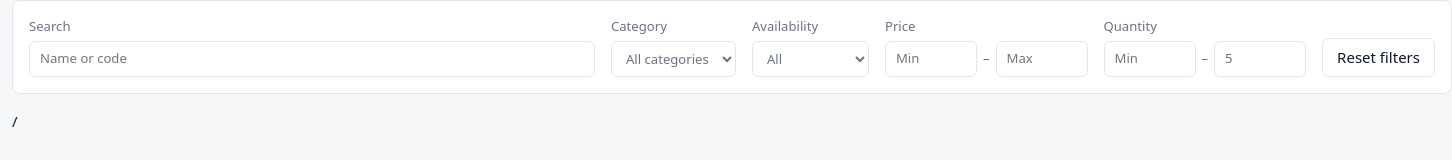
ProductFilters › reset clears the inputs and cancels pending updates
The image size is (1452, 160).
Expected: the number field named "Maximum quantity" holds "5", x1=1214 y1=41 x2=1306 y2=77
Type "tea" into the search field labelled "Search" at (312, 59), box x1=29 y1=41 x2=595 y2=77
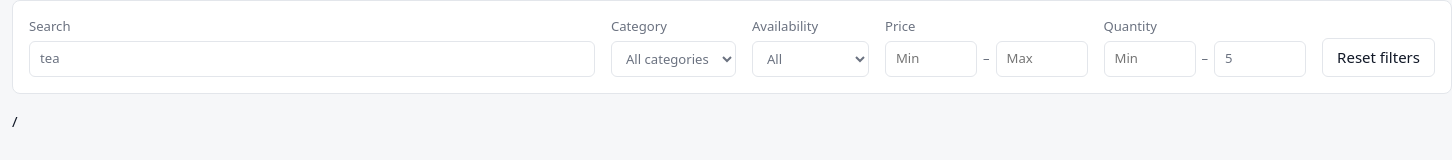
Click the button "Reset filters" at (1379, 57), box x1=1322 y1=38 x2=1435 y2=77
Wait 400 ms
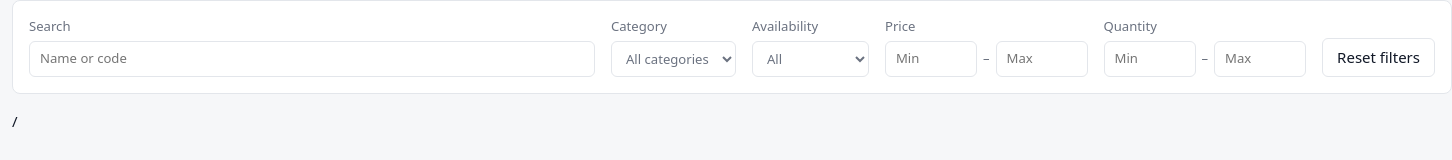
Expected: the search field labelled "Search" is empty, x1=29 y1=41 x2=595 y2=77
Expected: the number field named "Maximum quantity" is not empty, x1=1214 y1=41 x2=1306 y2=77
